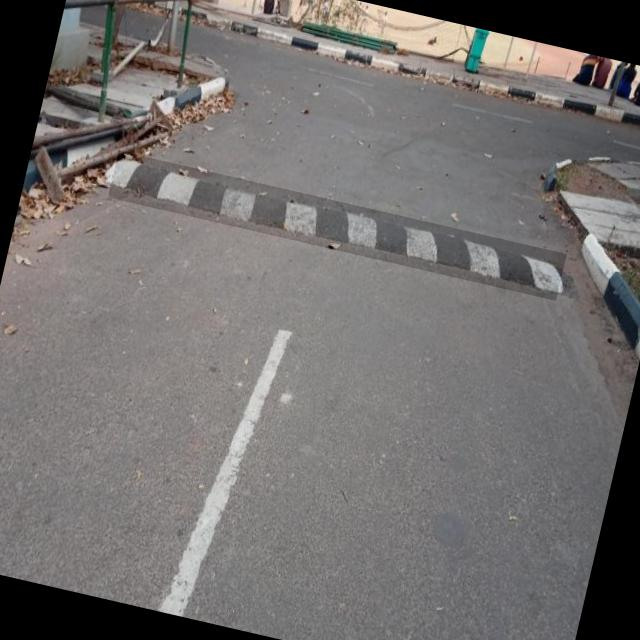bump: (107, 150, 566, 301)
